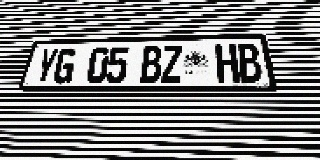0: (86, 47, 110, 83)
5: (106, 47, 129, 83)
B: (236, 44, 263, 82), (140, 46, 162, 83)
G: (52, 48, 78, 84)
H: (215, 44, 240, 82)
Y: (33, 49, 59, 84)
Z: (161, 46, 182, 83)
